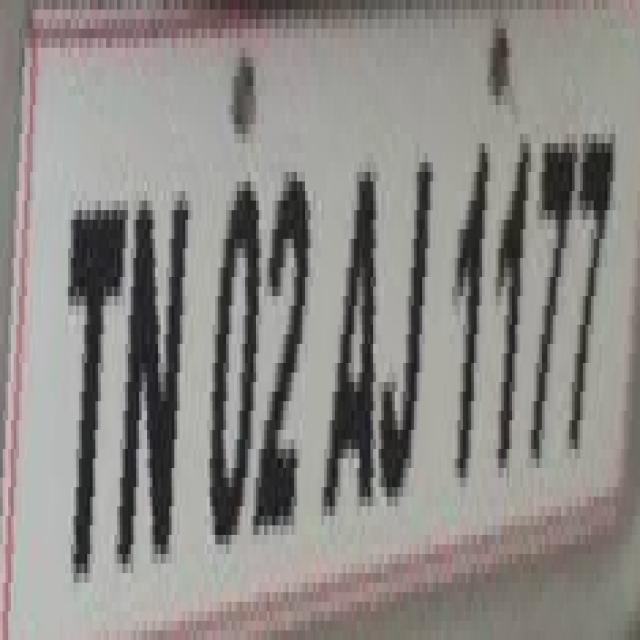license_plate: (19, 0, 640, 583)
